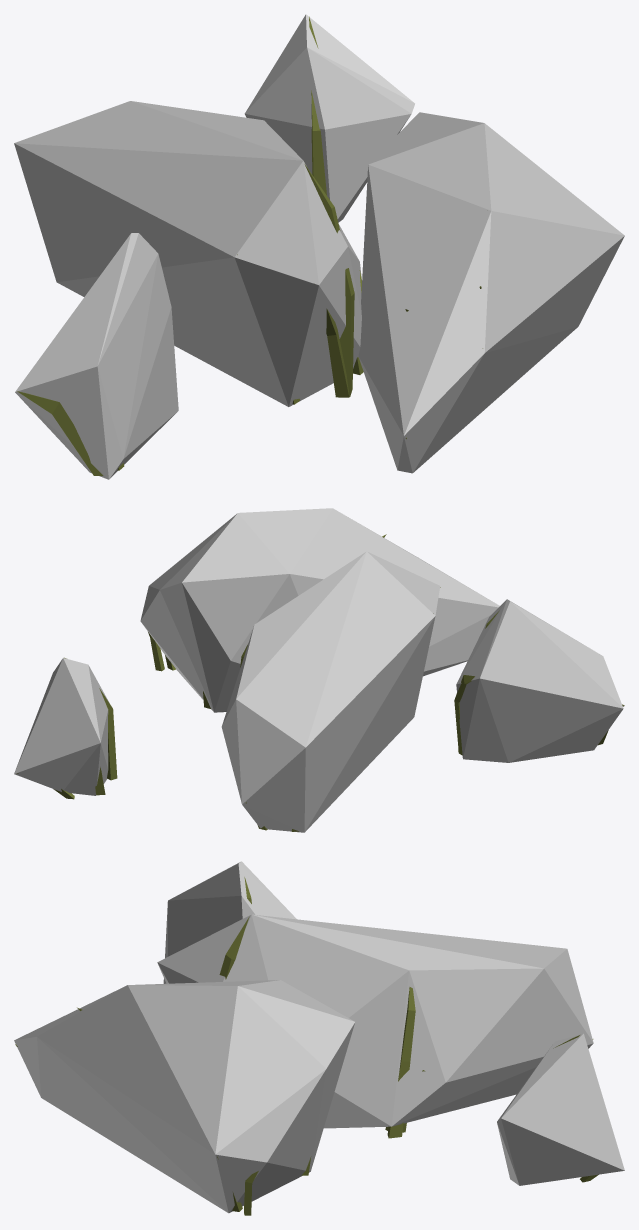
The model's file is SM_Env_Grass_02.fbx.
3 views of the same model, one above another, from view 1: azimuth 30°, elevation 25°; view 2: azimuth 150°, elevation 25°; view 3: azimuth 270°, elevation 25° (orthographic). The views are drawn at different scales.
Visible parts, largest first — view 1: SM_Env_Grass_02_ConvexHulls, SM_Env_Grass_02; view 2: SM_Env_Grass_02_ConvexHulls, SM_Env_Grass_02; view 3: SM_Env_Grass_02_ConvexHulls, SM_Env_Grass_02.
Boxes of the visible parts, x1,y1,x2,y2 form: SM_Env_Grass_02_ConvexHulls: [14, 14, 624, 479]; SM_Env_Grass_02: [17, 16, 482, 475]; SM_Env_Grass_02_ConvexHulls: [14, 508, 623, 832]; SM_Env_Grass_02: [17, 534, 624, 831]; SM_Env_Grass_02_ConvexHulls: [14, 861, 624, 1213]; SM_Env_Grass_02: [15, 877, 598, 1215].
Bounding box in the file's own units: 212 × 215 × 74.4.
2 materials, 1 textured.
